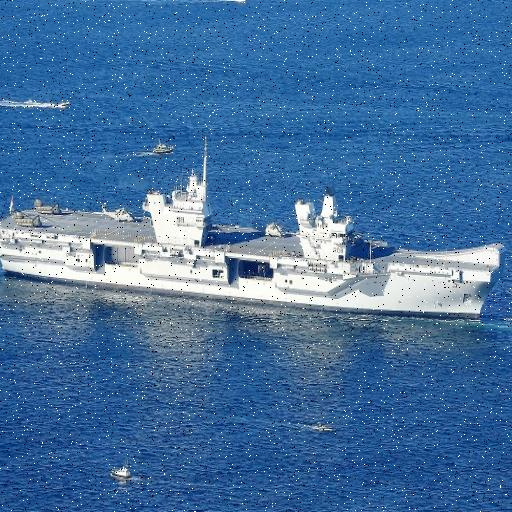Portanaves: (1, 128, 509, 330)
